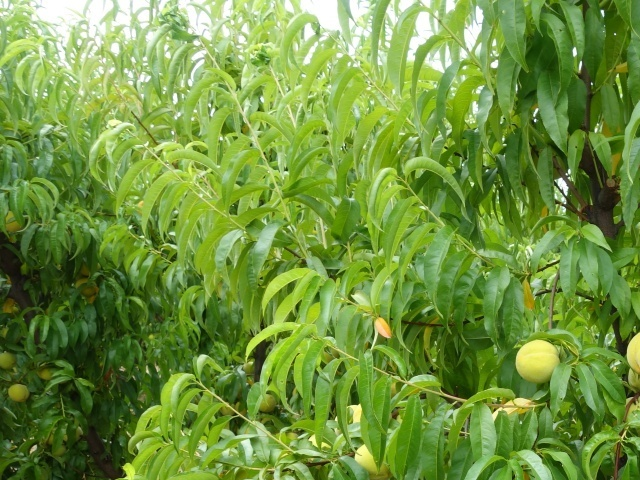peach: (512, 338, 566, 385), (254, 391, 282, 418), (4, 381, 31, 405), (1, 210, 21, 233), (1, 349, 19, 372)
